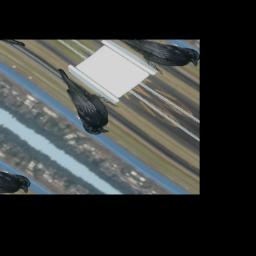Crow: (27, 67, 132, 140)
